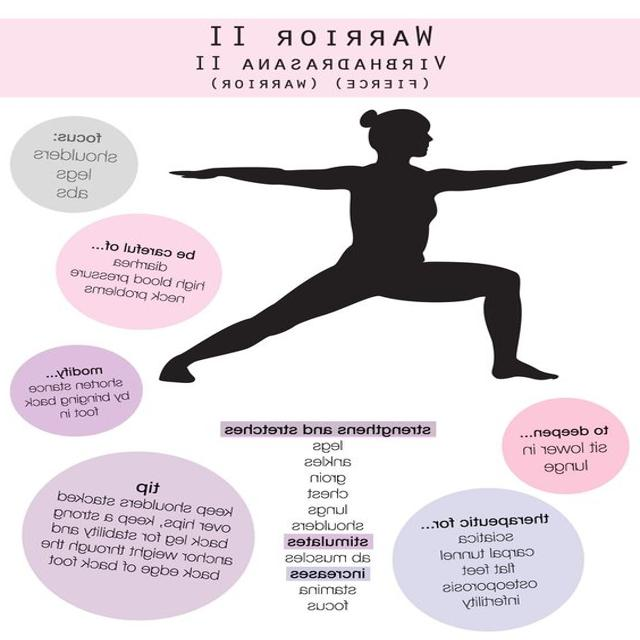Warrior_II: (152, 105, 626, 384)
